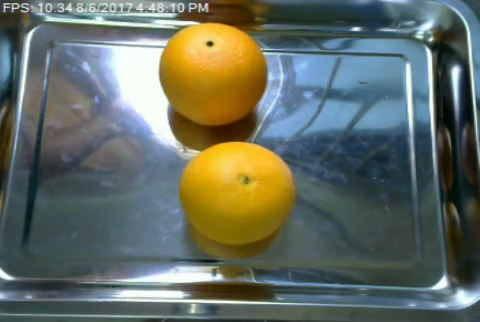Orange: (176, 139, 295, 243), (155, 22, 268, 123)
